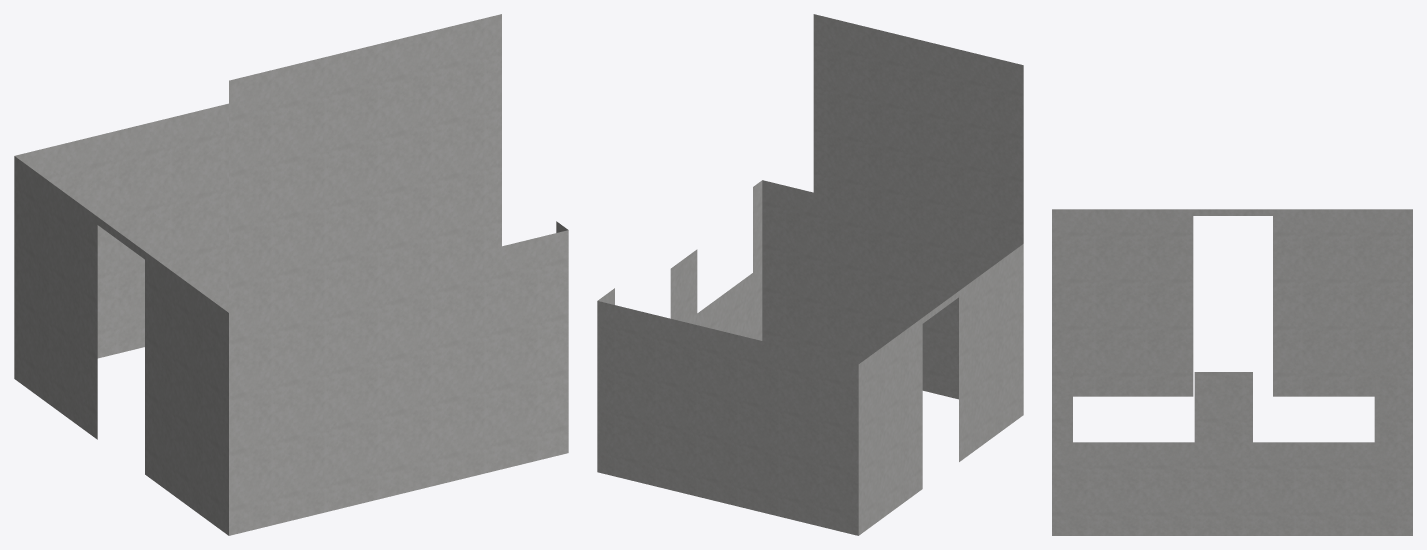
File: 20251116_Building03_new inside wall.fbx
The picture shows the model from 3 angles, left to right: view 1: azimuth 30°, elevation 25°; view 2: azimuth 150°, elevation 25°; view 3: azimuth 270°, elevation 25°; orthographic projection. The views are drawn at different scales.
Visible parts, largest first — view 1: interior; view 2: interior; view 3: interior.
Boxes of the visible parts, left/top/right/bottom form: interior: left=14, top=14, right=568, bottom=535; interior: left=597, top=14, right=1023, bottom=535; interior: left=1052, top=209, right=1412, bottom=535.
Size of the model in its own units: 153 by 167 by 196.
Materials: 1 (1 with a texture image).
